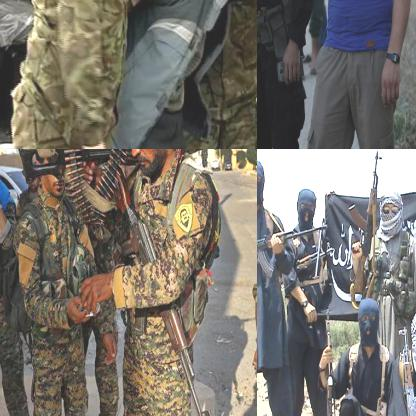rifle: (120, 191, 213, 415), (15, 149, 256, 192), (257, 219, 332, 277), (348, 149, 385, 256), (318, 308, 344, 415), (395, 324, 415, 415)
